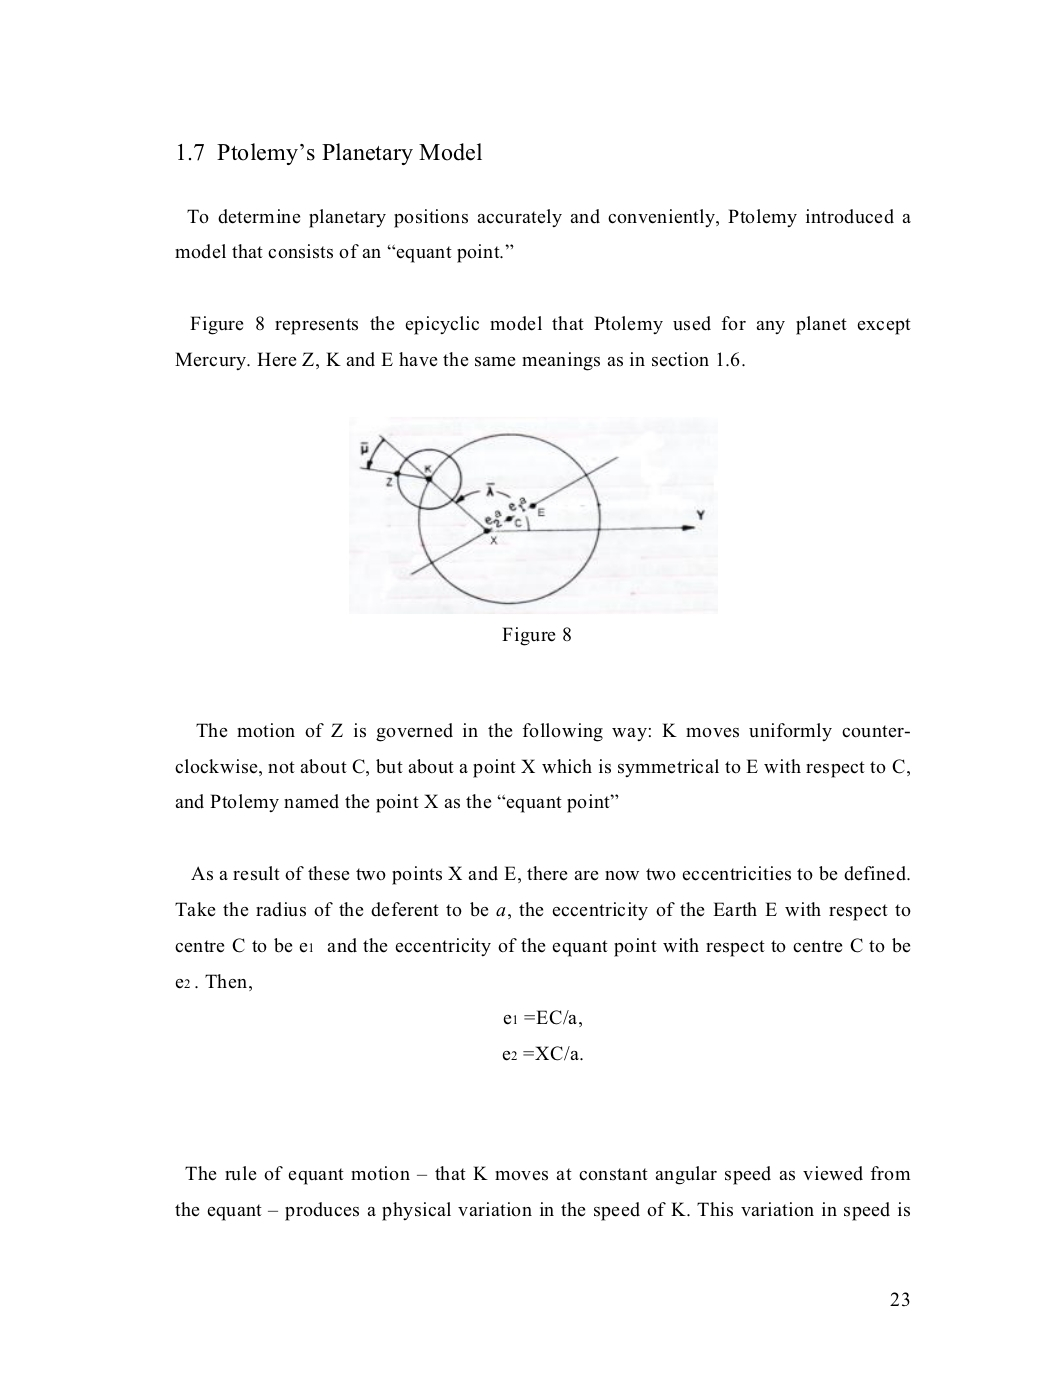figure: (359, 432, 705, 610)
formula: (503, 1009, 581, 1028), (502, 1045, 582, 1061)
